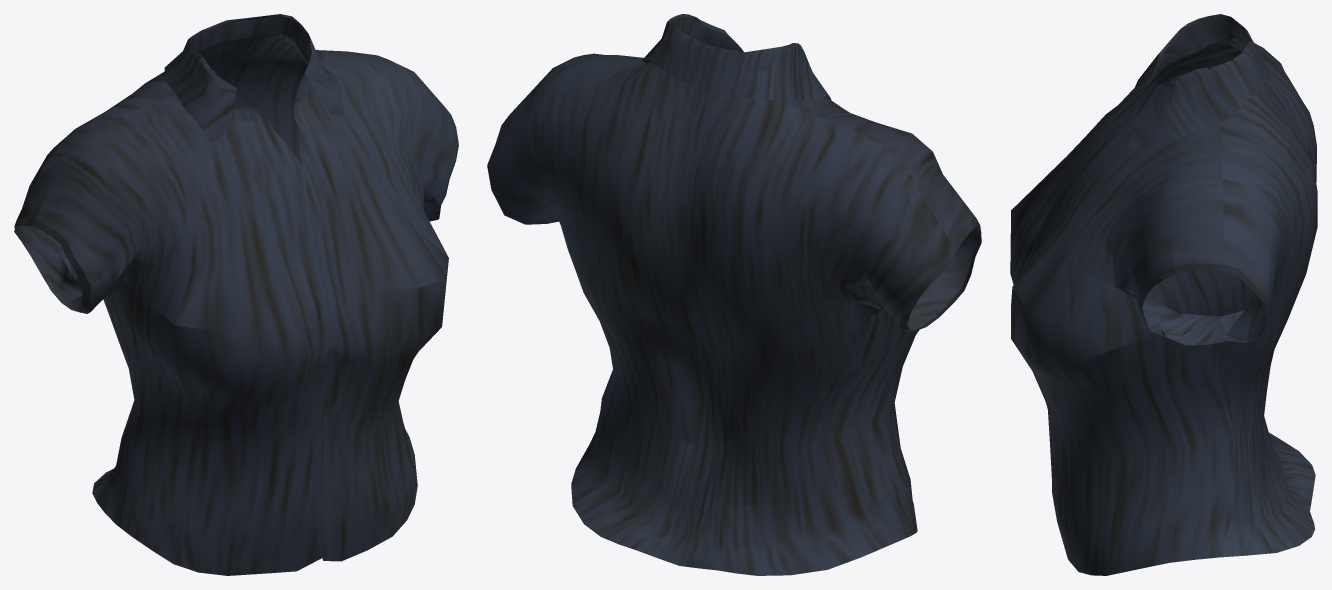
Rendered from SXS_SMF.dae.
3 views of the same model, side by side, from view 1: azimuth 30°, elevation 25°; view 2: azimuth 150°, elevation 25°; view 3: azimuth 270°, elevation 25° (orthographic). The views are drawn at different scales.
Visible parts, largest first — view 1: shirt01Mesh; view 2: shirt01Mesh; view 3: shirt01Mesh.
Boxes of the visible parts, x1=… form: shirt01Mesh: x1=14, y1=14, x2=458, y2=575; shirt01Mesh: x1=487, y1=14, x2=981, y2=575; shirt01Mesh: x1=1010, y1=14, x2=1317, y2=575.
Bounding box in the file's own units: 4.51 × 5.02 × 2.8.
